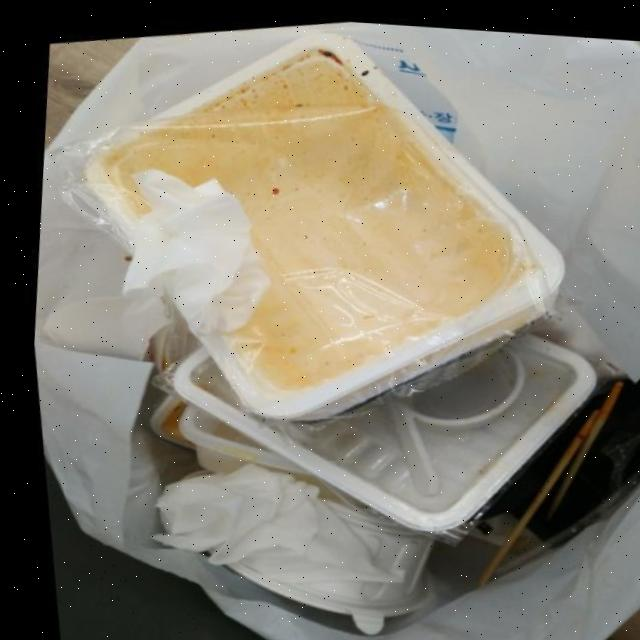disposable: (58, 22, 563, 446)
